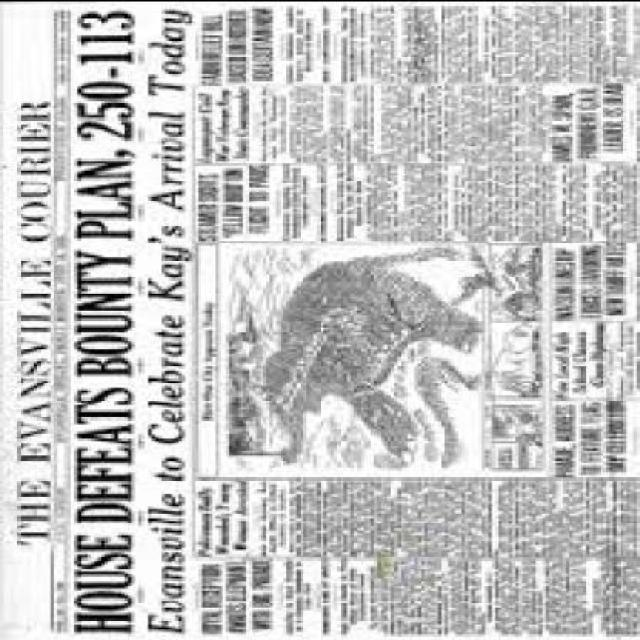PAPER: (0, 1, 640, 638)
